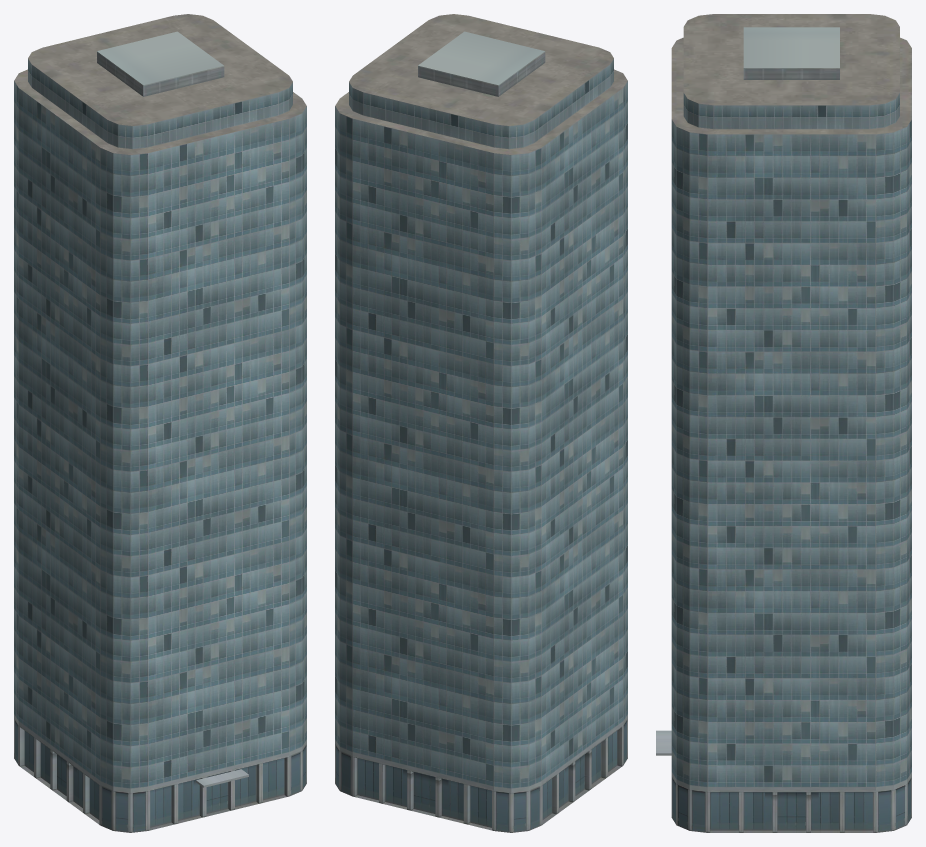
File: sf_glasstower_b.glb
The picture shows the model from 3 angles, left to right: view 1: azimuth 30°, elevation 25°; view 2: azimuth 150°, elevation 25°; view 3: azimuth 270°, elevation 25°; orthographic projection. The views are drawn at different scales.
Parts seen in each view (by area): view 1: sf_glasstower_b; view 2: sf_glasstower_b; view 3: sf_glasstower_b.
Boxes of the visible parts, <box> form: sf_glasstower_b: <box>14,14,306,832</box>; sf_glasstower_b: <box>335,14,627,832</box>; sf_glasstower_b: <box>656,14,911,832</box>.
Bounding box in the file's own units: 40 × 135 × 42.6.
1 material, 1 textured.
